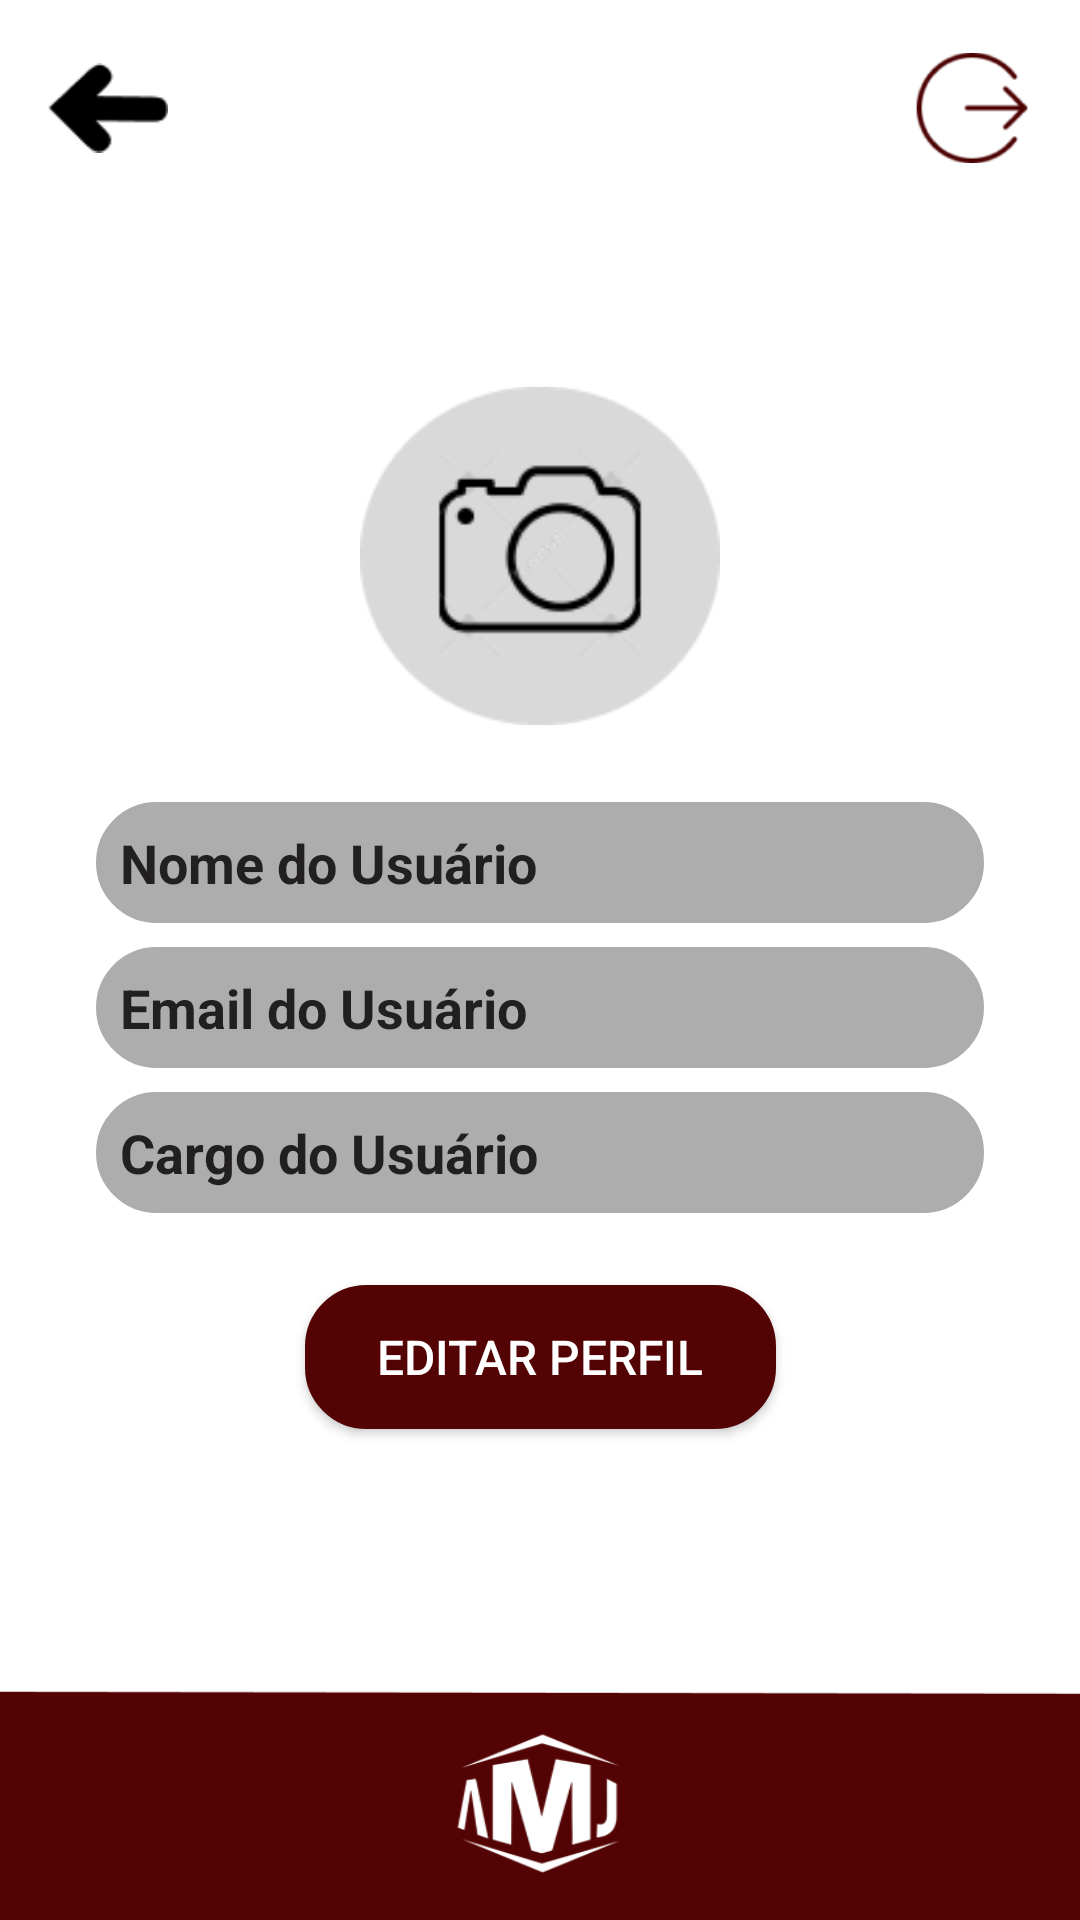

Icons on this 1080x1920 Android screen, each with its box as (x1, y1, x2, y2):
perfil: (360, 387, 720, 725)
setinha preta: (48, 63, 168, 153)
